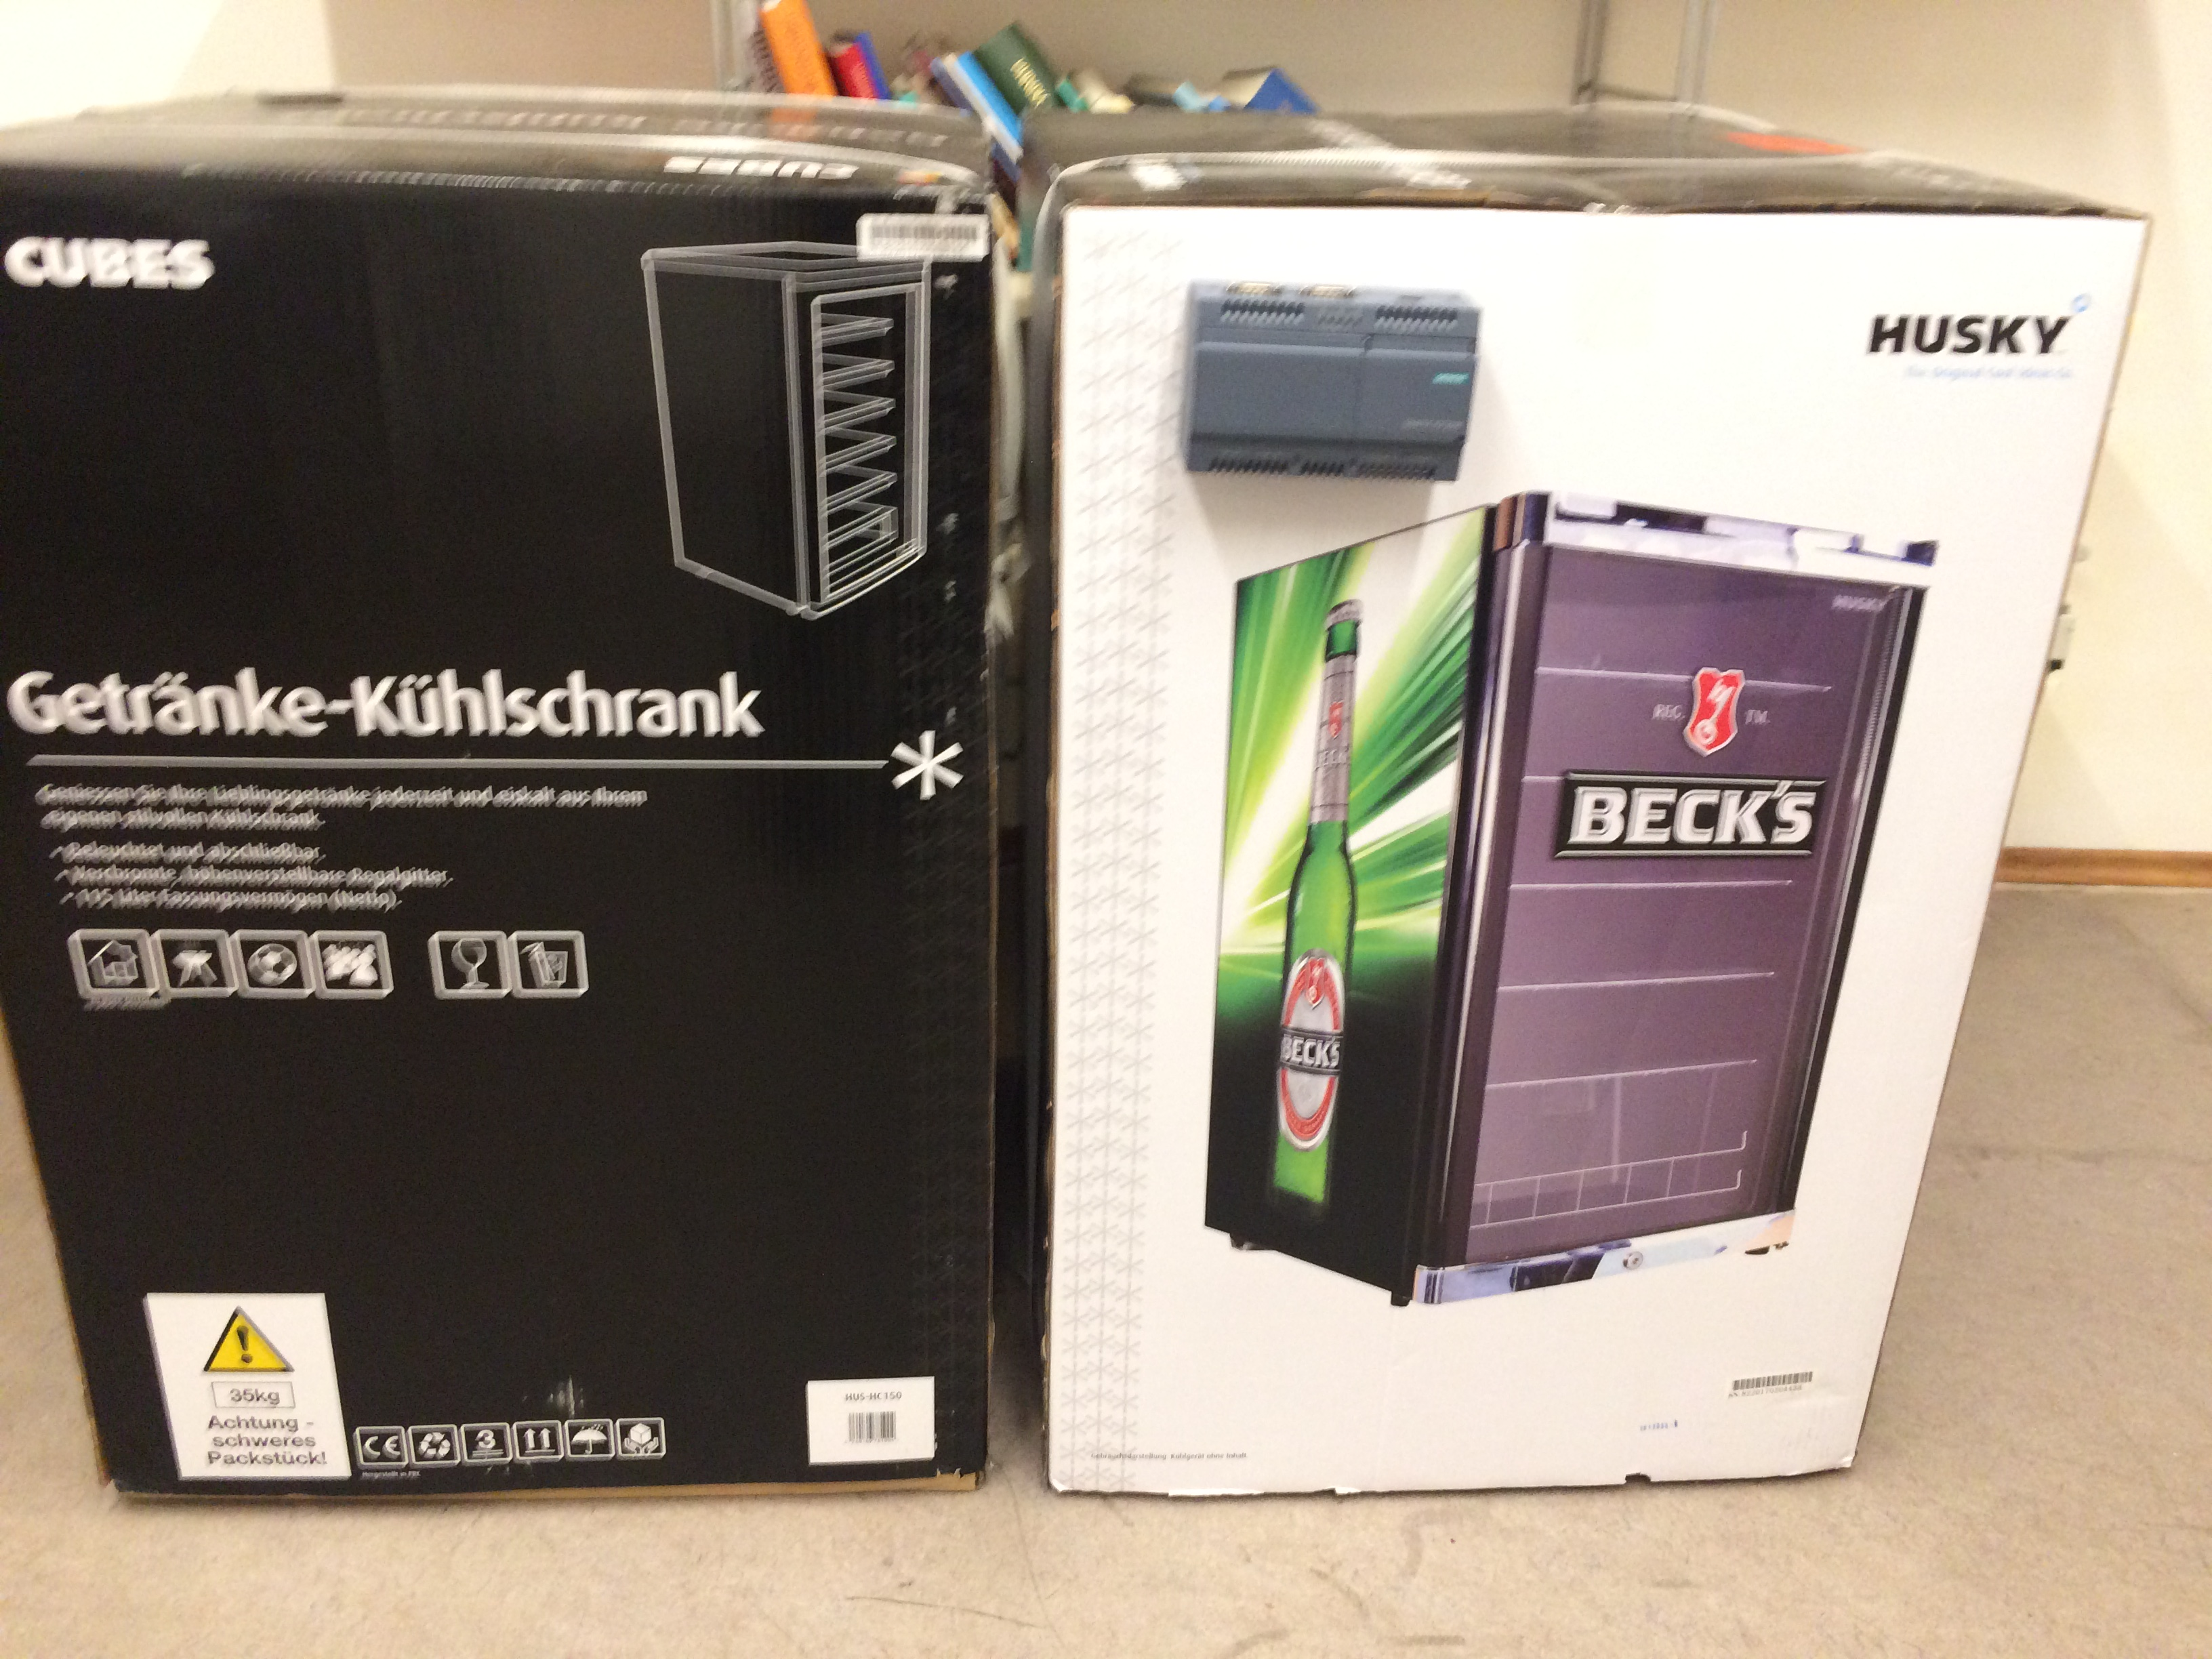iot2000: (1176, 277, 1487, 486)
